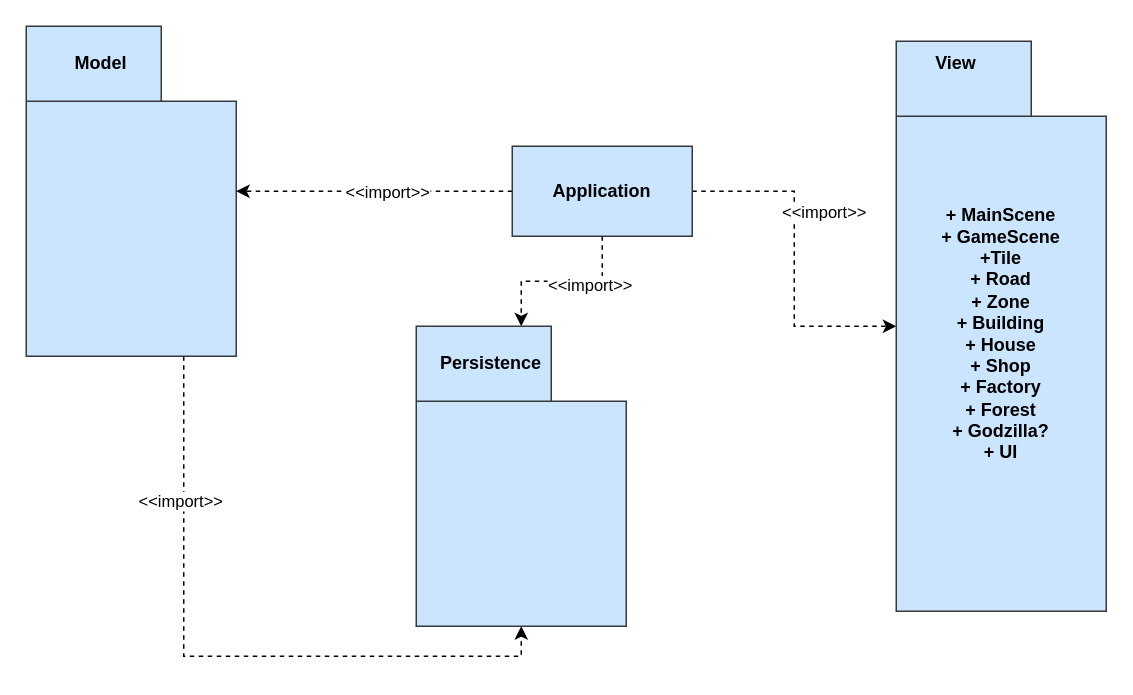
Image size: 1133x695. Some labels were removed from this diagram. The shapes that lost their labels are listed below. From the top down, each one's box as (x1, y1, x2, y2) in pixels, then its label:
(25, 25, 236, 356): + GameModel + GameConfig + CityLogic + CityEvents + PlayerAction
(415, 325, 626, 626): + GameData
